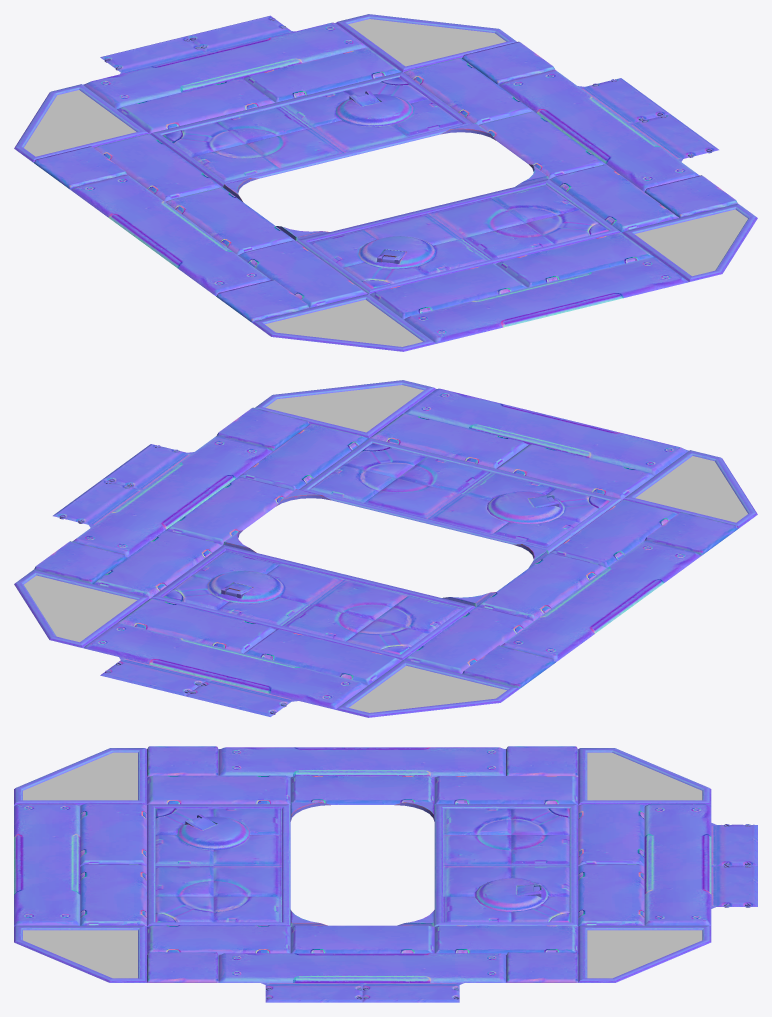
The model's file is Building_D_Room_A_Floor_A.fbx.
3 views of the same model, one above another, from view 1: azimuth 30°, elevation 25°; view 2: azimuth 150°, elevation 25°; view 3: azimuth 270°, elevation 25° (orthographic).
Parts seen in each view (by area): view 1: Geom_Building_D_Room_A_Floor_A_LOD00; view 2: Geom_Building_D_Room_A_Floor_A_LOD00; view 3: Geom_Building_D_Room_A_Floor_A_LOD00.
Part boxes in pixels (bbox=[...]): Geom_Building_D_Room_A_Floor_A_LOD00: bbox=[14, 14, 757, 351]; Geom_Building_D_Room_A_Floor_A_LOD00: bbox=[14, 380, 757, 717]; Geom_Building_D_Room_A_Floor_A_LOD00: bbox=[14, 746, 757, 1002].
Size of what is drawn, in the model's own units: 1670 by 30.78 by 2070.
